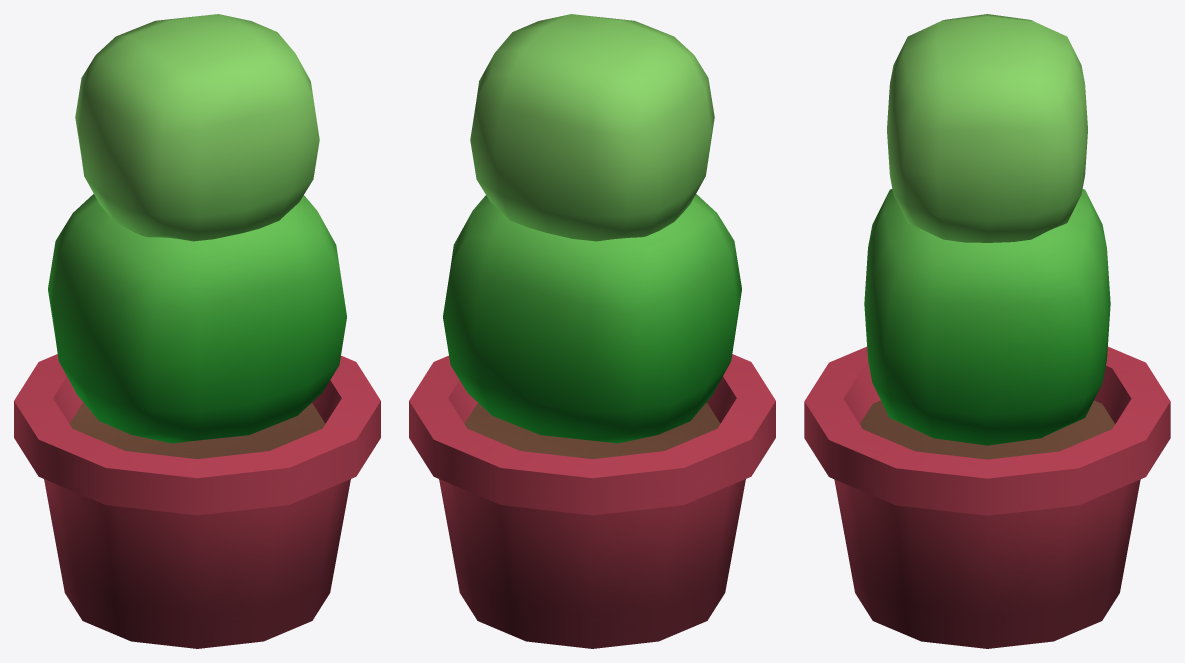
File: Plant_04.fbx
3 renders of one model, left to right at view 1: azimuth 30°, elevation 25°; view 2: azimuth 150°, elevation 25°; view 3: azimuth 270°, elevation 25°, orthographic.
Visible parts, largest first — view 1: Cylinder006; view 2: Cylinder006; view 3: Cylinder006.
Part boxes in pixels (<box>): Cylinder006: <box>14,14,380,648</box>; Cylinder006: <box>409,14,775,648</box>; Cylinder006: <box>804,14,1170,648</box>.
Bounding box in the file's own units: 82.46 × 138 × 82.46.
